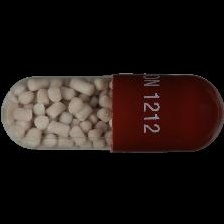17856-1212: (0, 0, 224, 224)
